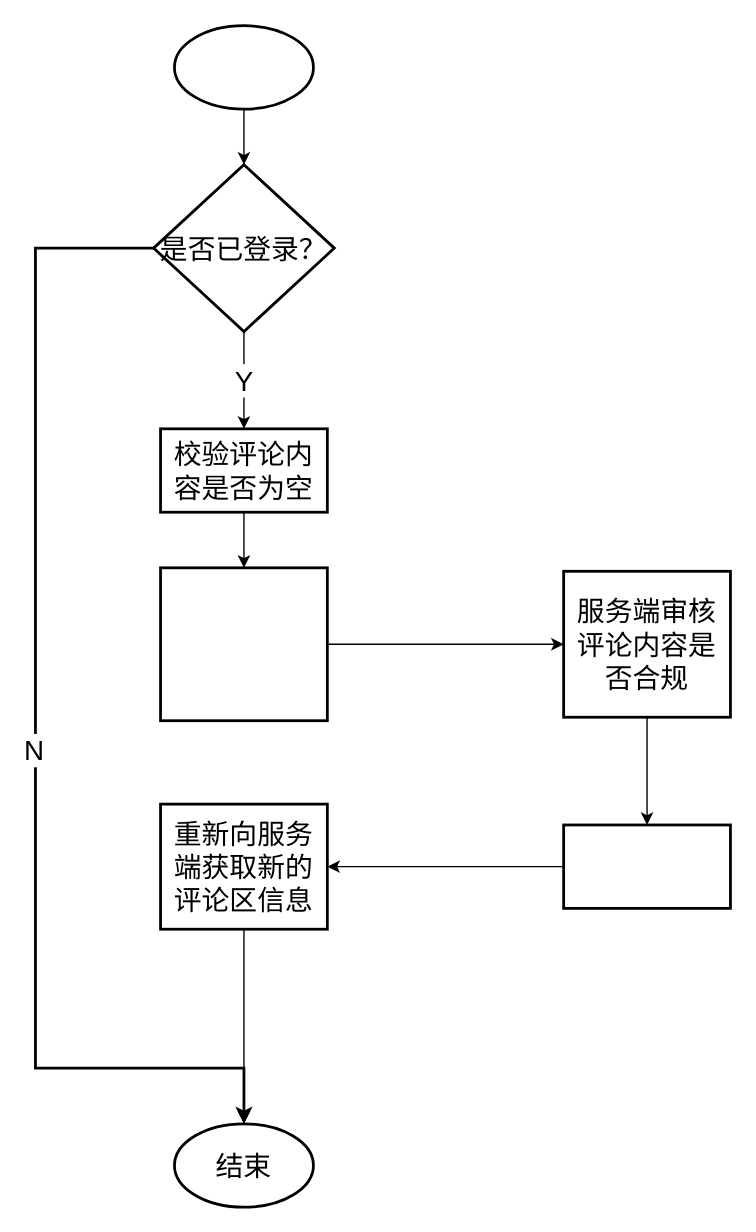
Some shapes in this 756 by 1232 pixel diagram are drawn without their labels. Here are the shapes that lost their labels. From the top down, the centre of each, then its label:
point 243,67: 开始
point 243,643: 将评论内容和对应的评论id发送到服务端
point 646,866: 更新帖子的评论区信息
